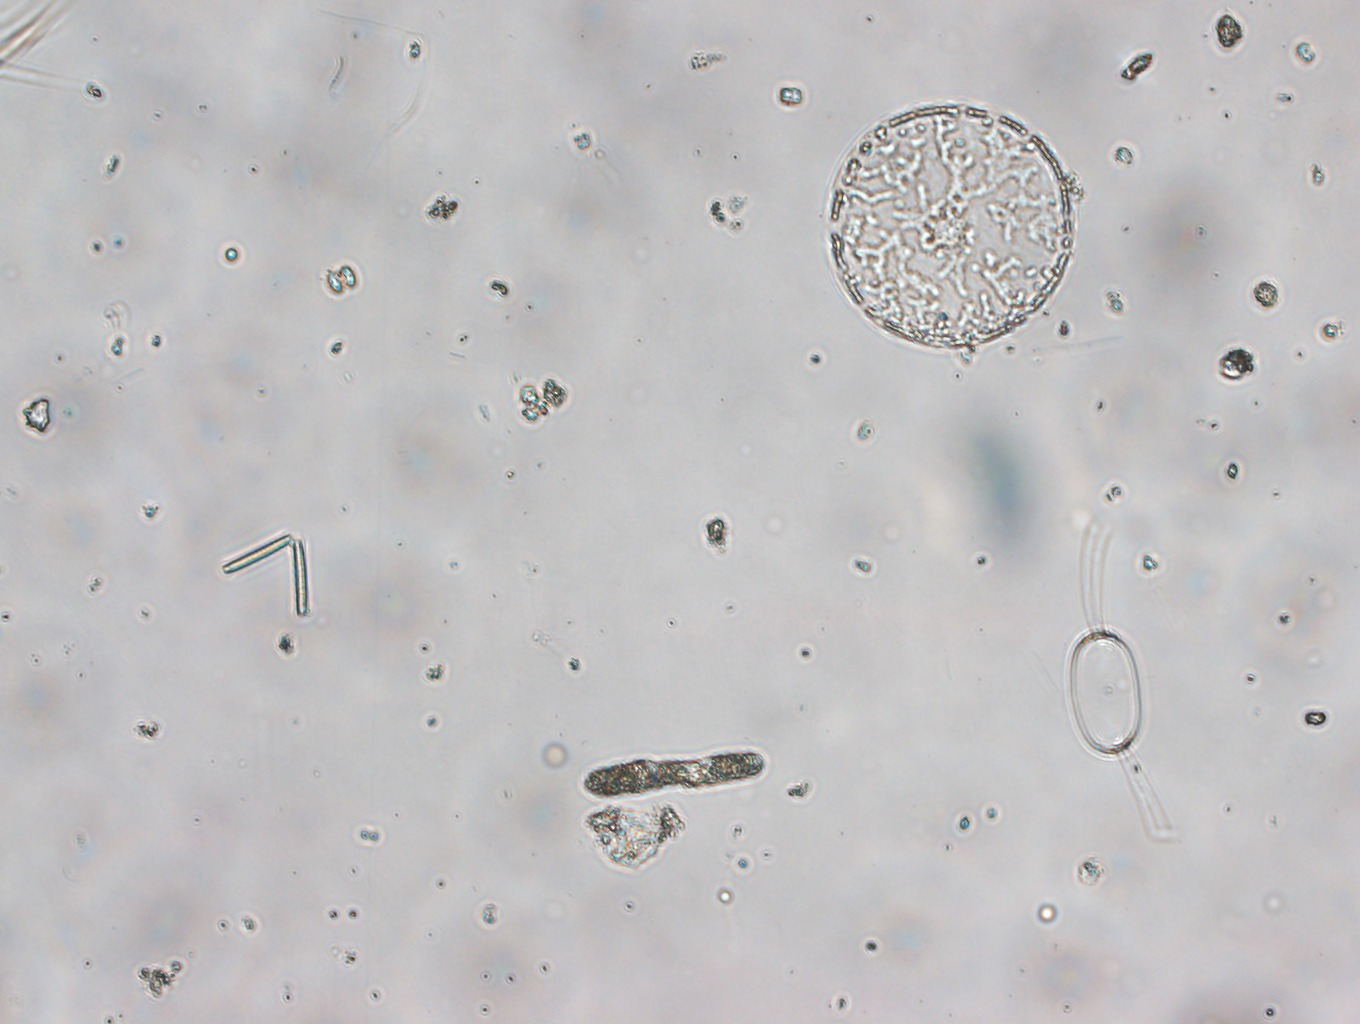coscinodiscus: (820, 94, 1087, 362)
thalassionema nitzschioides: (224, 524, 340, 618)
